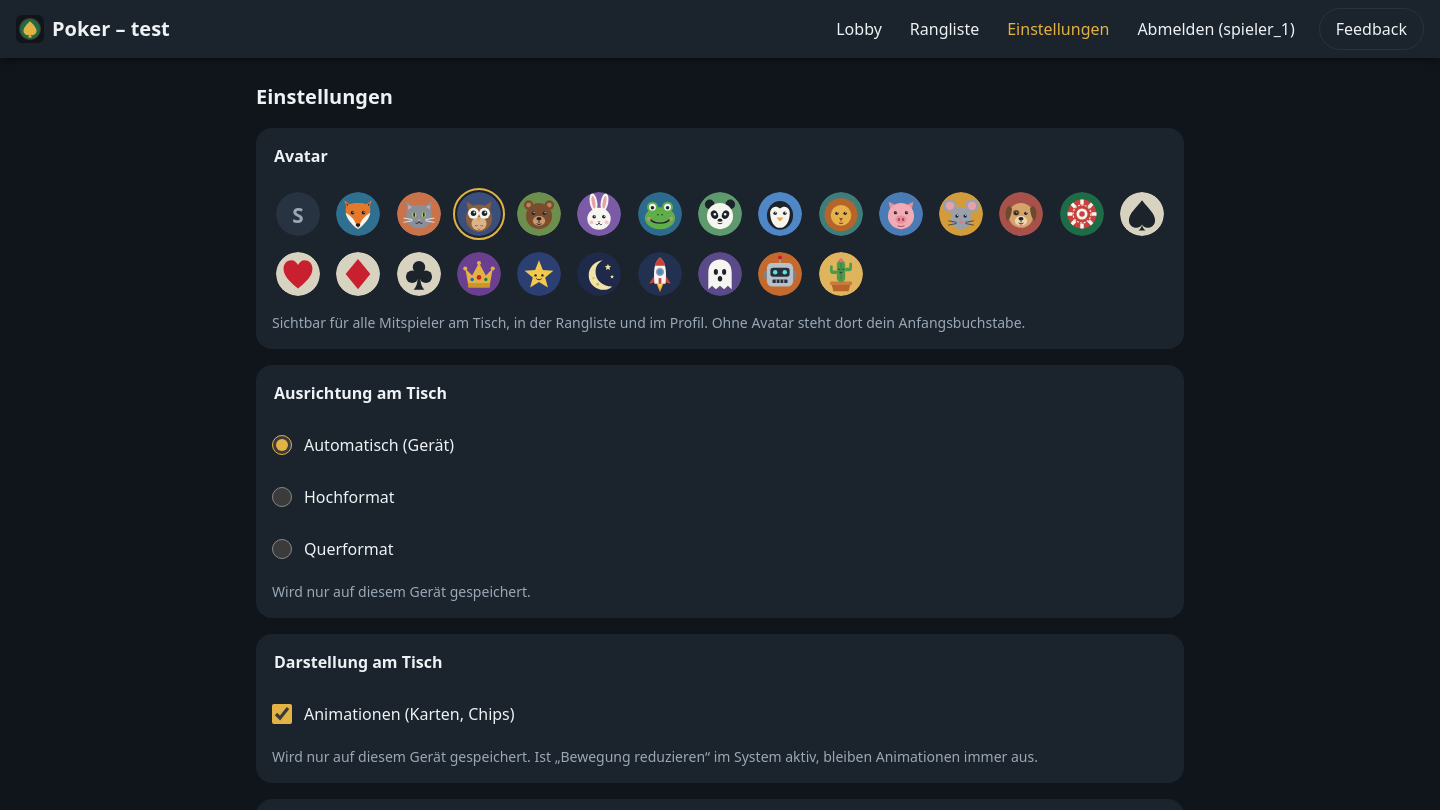
Test case: Einstellungen – Avatar › Fehler beim Speichern: Meldung, alte Wahl bleibt
The image size is (1440, 810).
Expected: the radio button named "Eule" is checked, [457,192,501,236]
Click the radio button named "Hund".
click(1021, 214)  # box [999,192,1043,236]
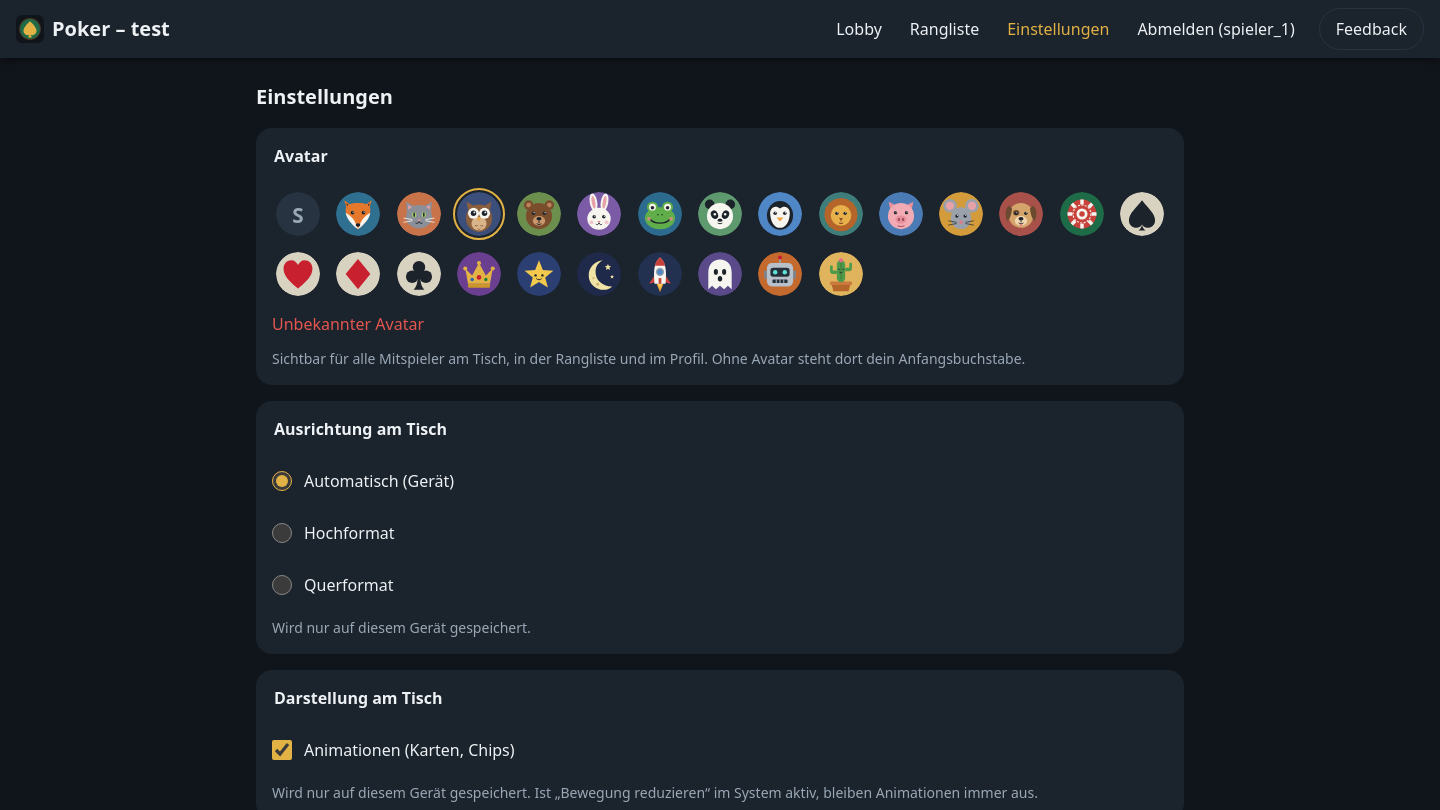
Expected: the radio button named "Eule" is checked, [457,192,501,236]
Expected: the message reads "Unbekannter Avatar", [272,313,424,335]
